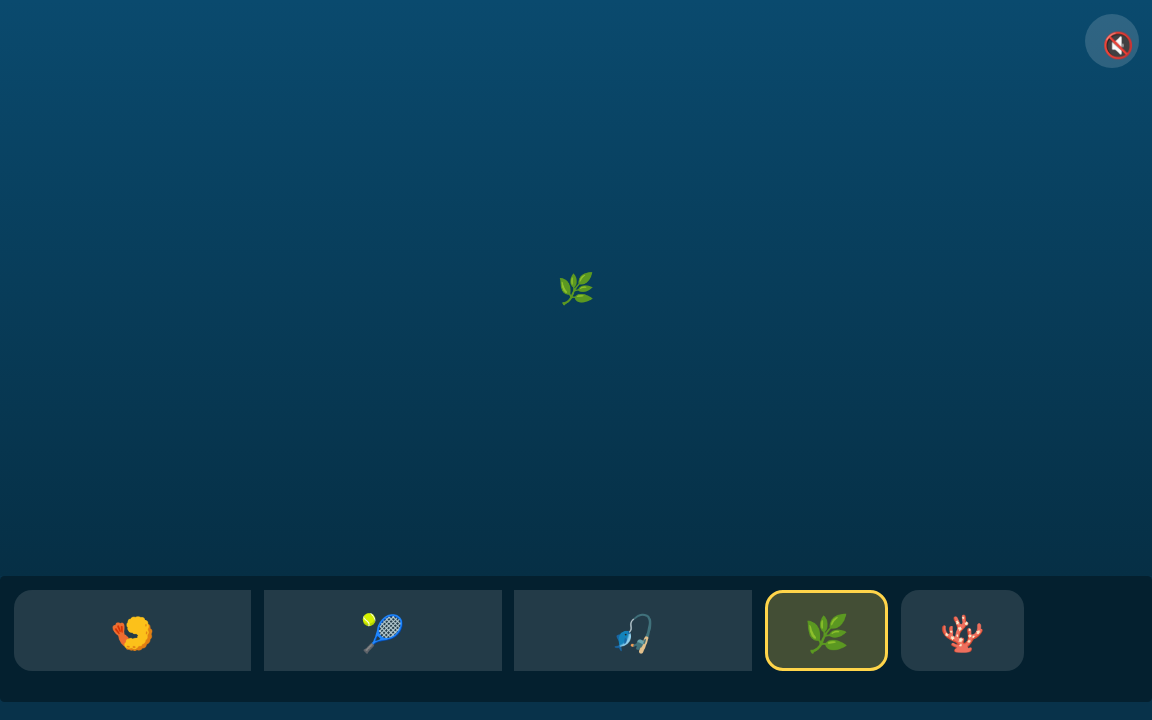
Aquarium page decoration pointer dispatch › switching tools mid-drag does not strand dragRef for later gestures
Press the mouse on the element showing "🌿" at (576, 288), box [0,0,1151,576]
Click the button named "fishing" at (633, 630), box [514,590,752,670]
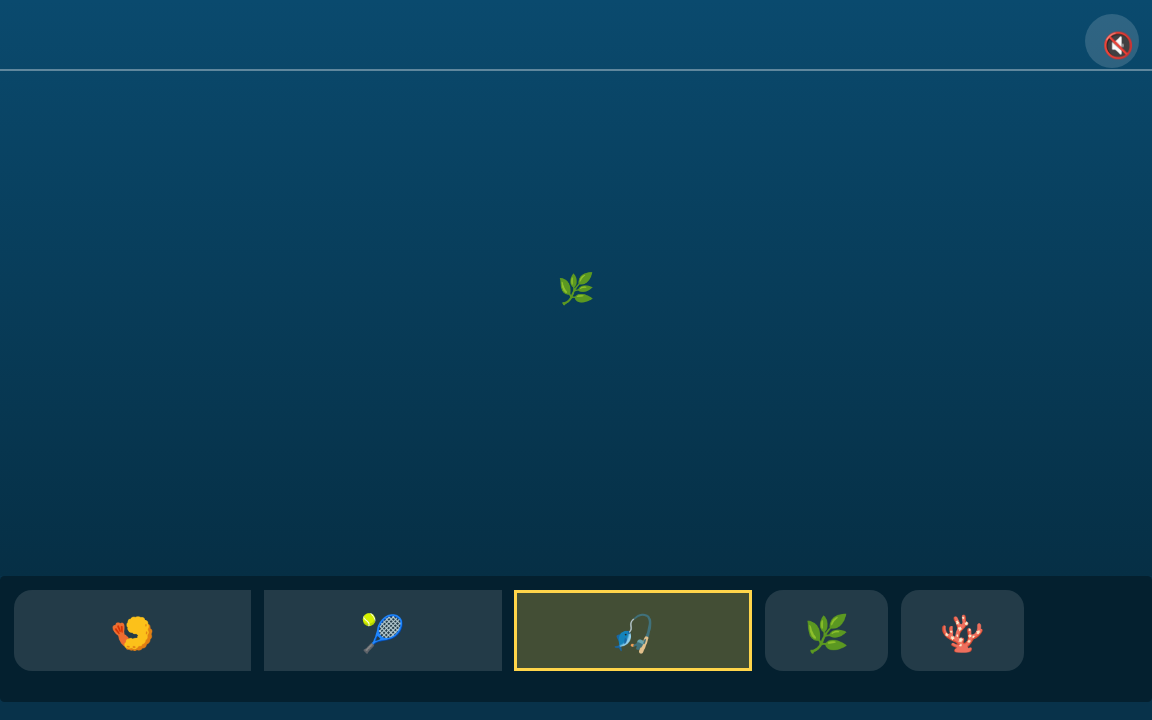
Click the button named "food" at (132, 630), box [14,590,251,670]
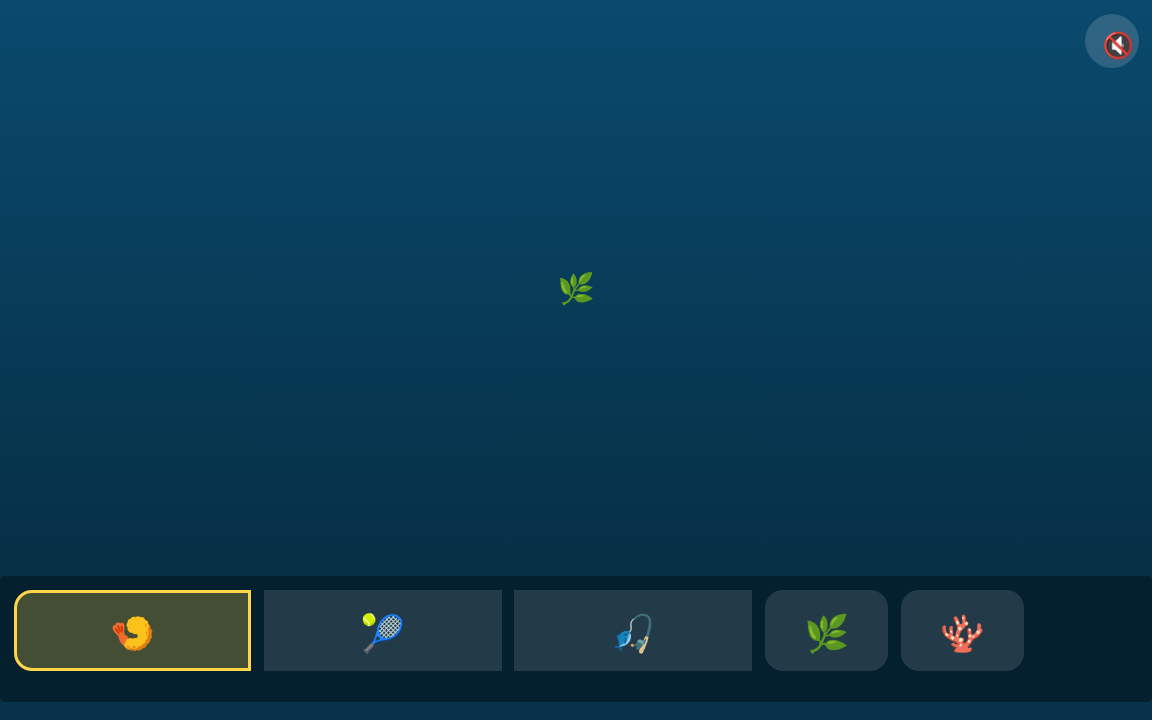
Click the element showing "🌿" at (576, 288), box [0,0,1151,576]
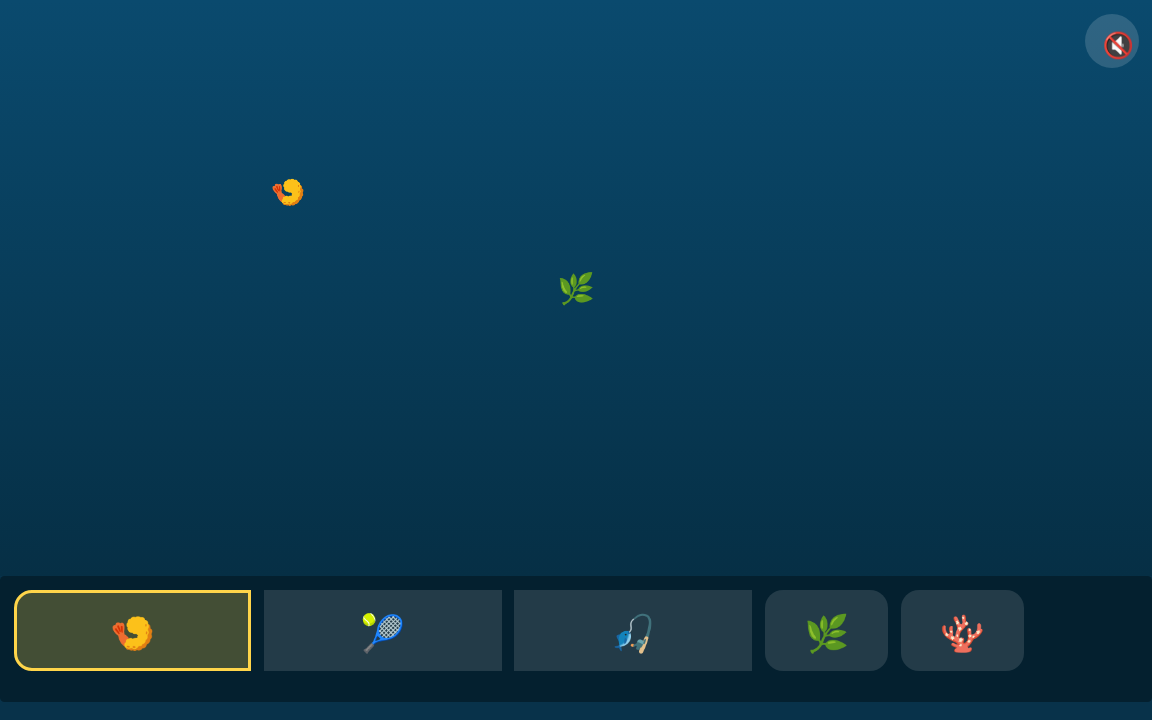
Now the number of elements with test id "foodDrop" is 1, box [270,170,305,214]
